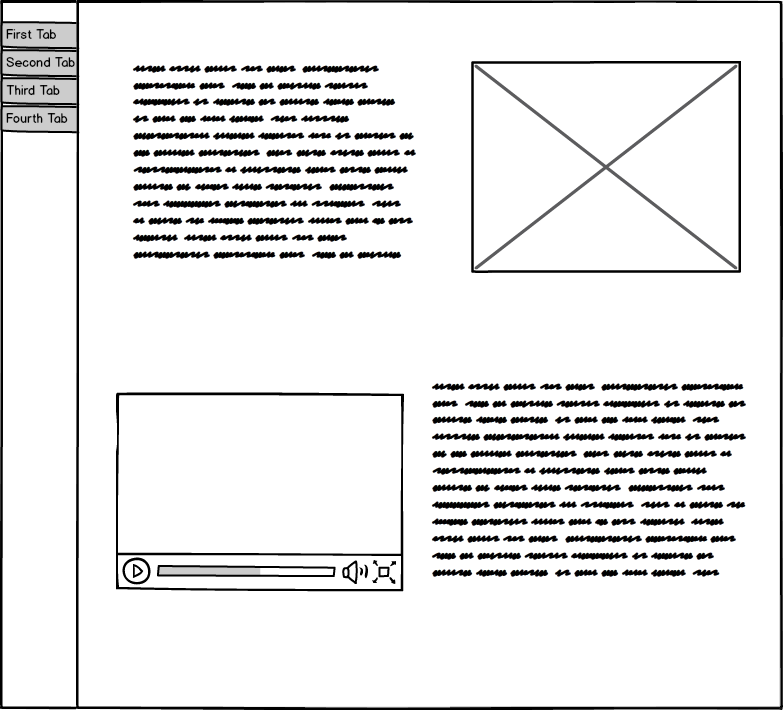image: (466, 55, 746, 277)
p: (428, 379, 751, 586), (121, 54, 424, 269)
sidebar: (4, 14, 85, 133)
video: (108, 389, 411, 597)
